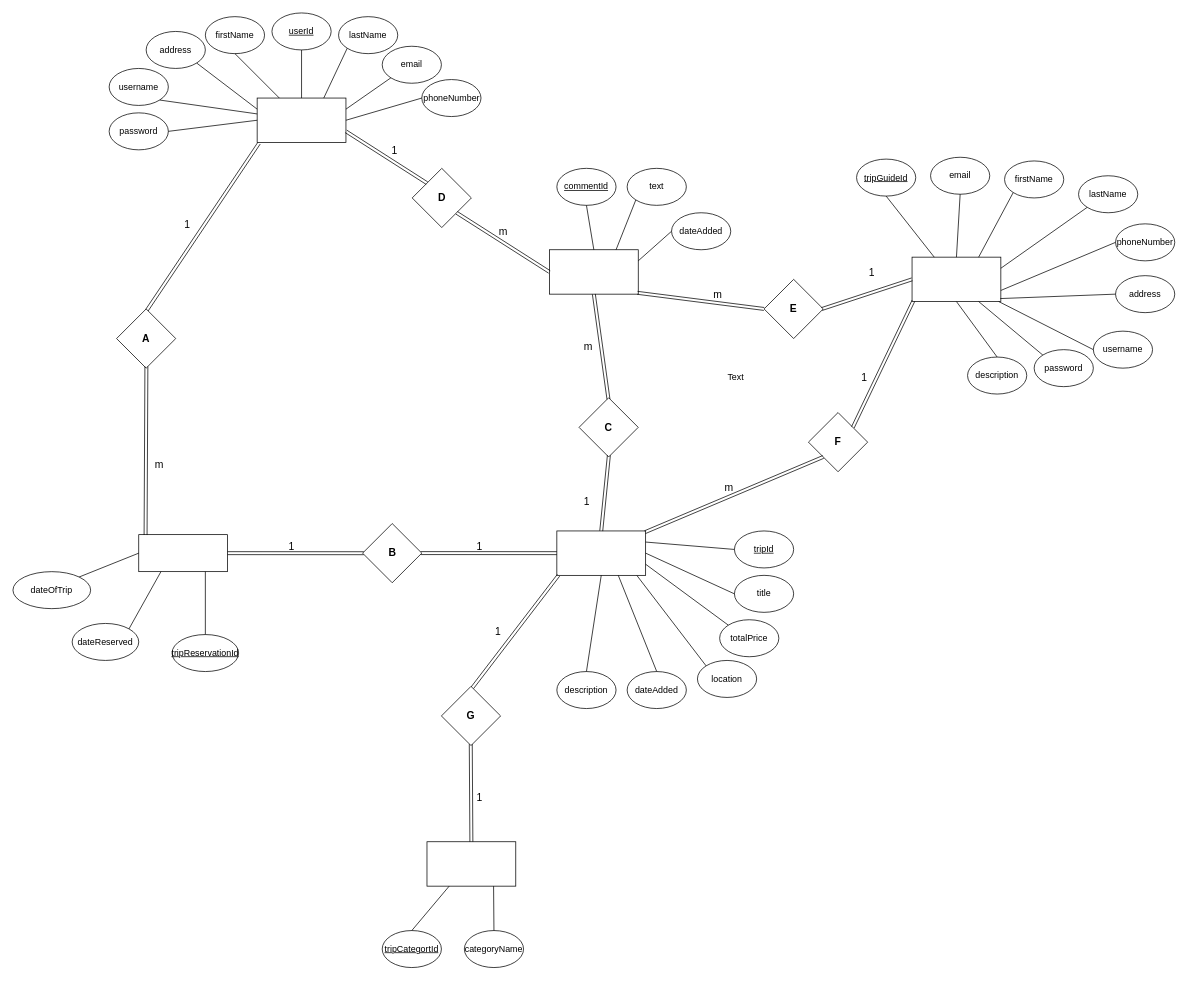
Image size: 1188x981. Some labels were removed from this diagram. Here are the shapes that lost their labels. From the top down, the centre of each, then its label:
At point (301, 119): "User".
At point (593, 271): "Comment".
At point (956, 279): "TripGuide".
At point (183, 553): "TripReservation".
At point (601, 552): "Trip".
At point (471, 863): "Trip Category".
